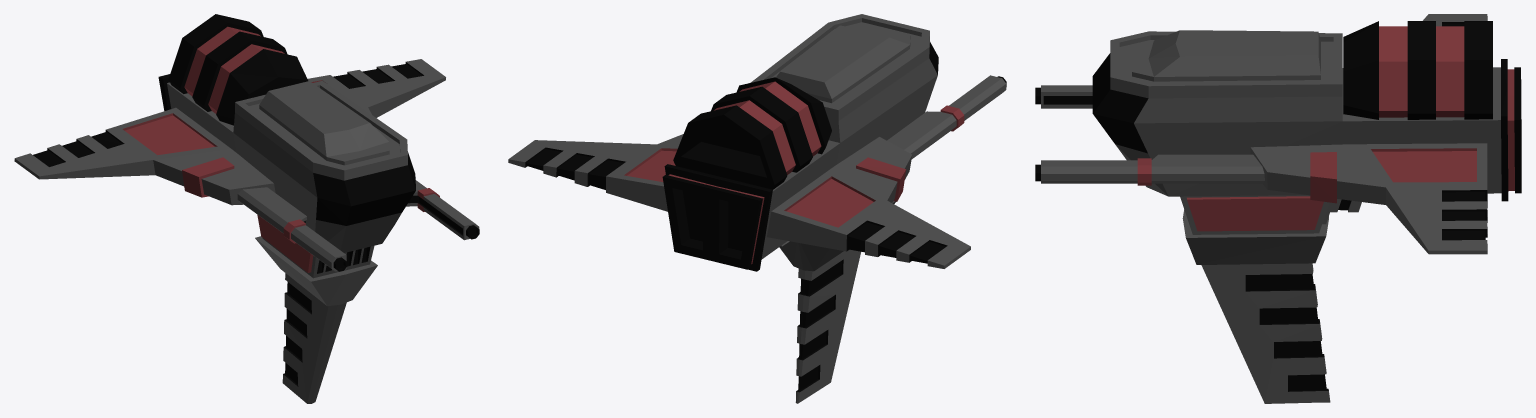
The model's file is Spaceship12_2.fbx.
The picture shows the model from 3 angles, left to right: view 1: azimuth 30°, elevation 25°; view 2: azimuth 150°, elevation 25°; view 3: azimuth 270°, elevation 25°; orthographic projection. The views are drawn at different scales.
Visible parts, largest first — view 1: Spaceship12_2; view 2: Spaceship12_2; view 3: Spaceship12_2.
Boxes of the visible parts, box(x1,y1,x2,y2) form: Spaceship12_2: box(14, 14, 479, 403); Spaceship12_2: box(508, 14, 1006, 403); Spaceship12_2: box(1035, 14, 1521, 403).
Bounding box in the file's own units: 1337 × 1004 × 1162.
